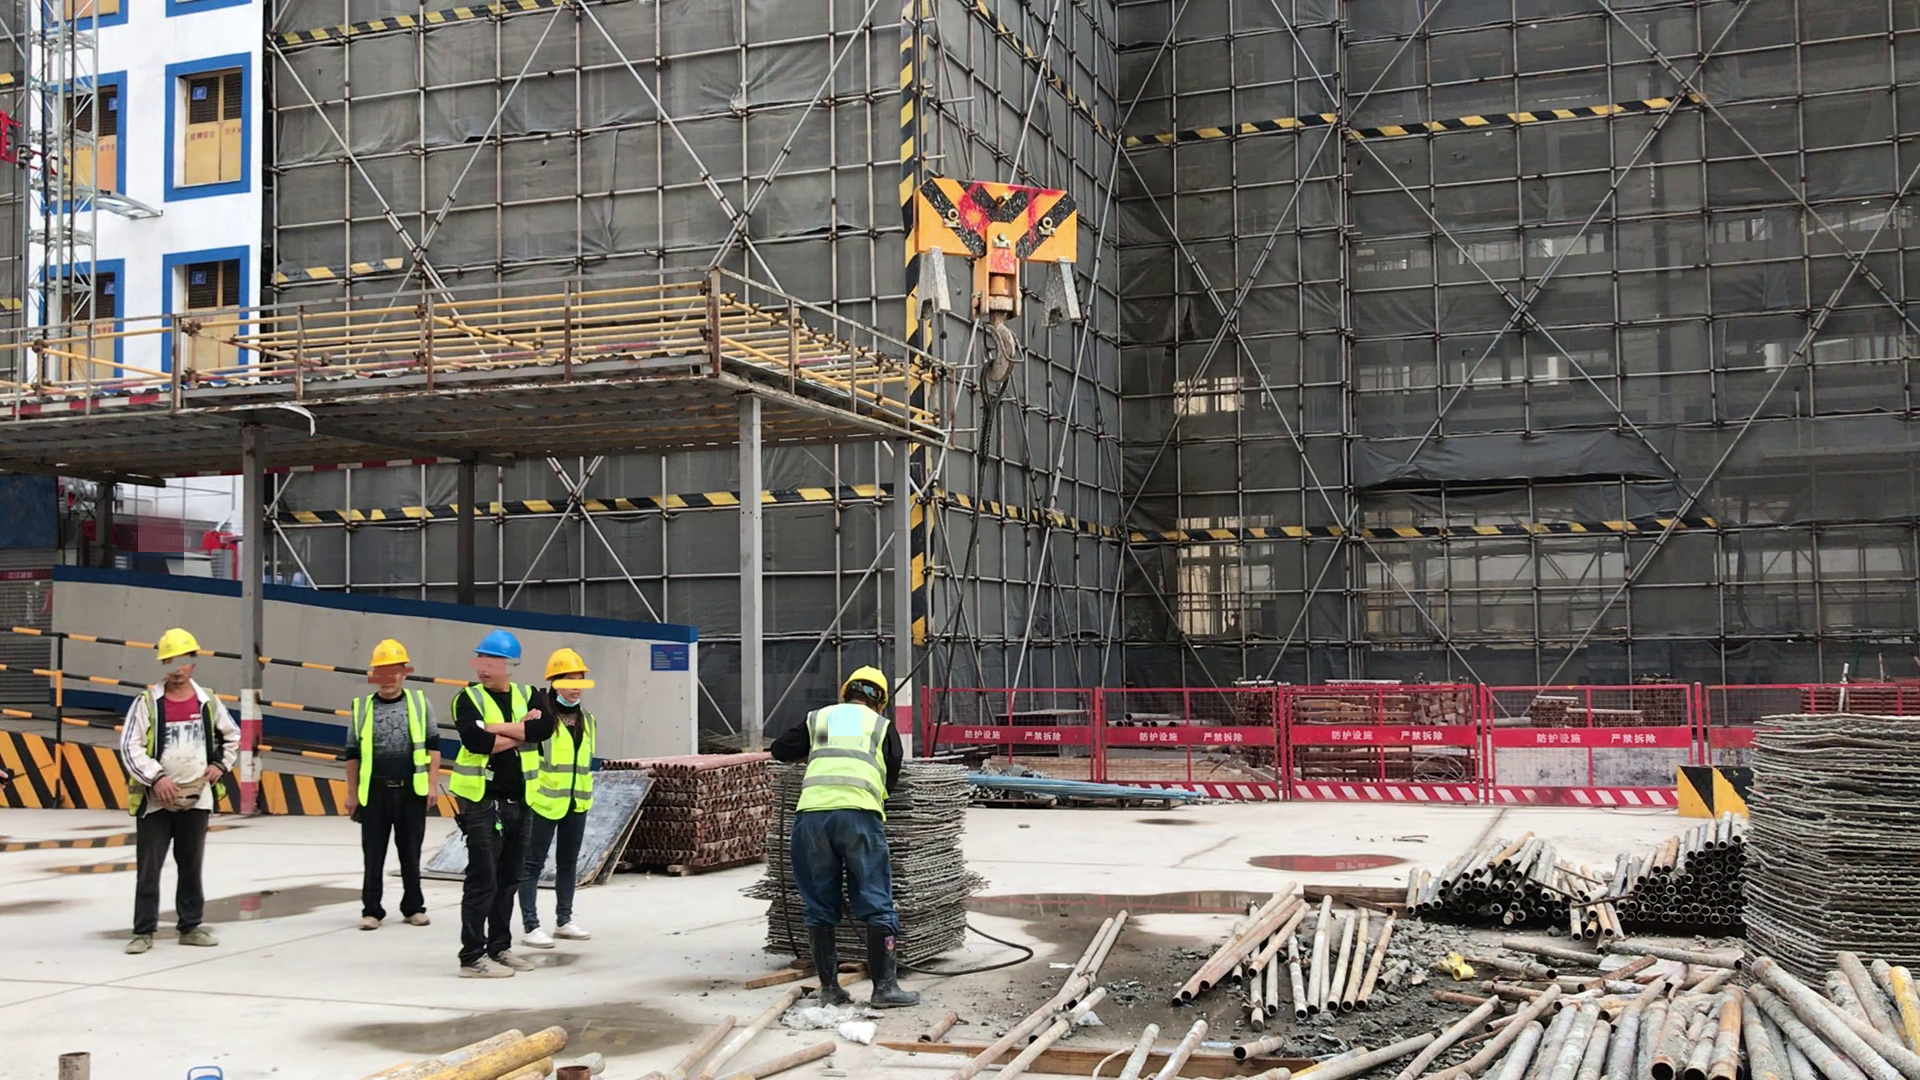helmet: (840, 667, 888, 704), (475, 630, 522, 665), (157, 627, 200, 662), (545, 649, 589, 678), (369, 640, 409, 666)
person: (786, 668, 917, 1008), (121, 627, 241, 955), (452, 630, 532, 977), (350, 641, 435, 930), (531, 650, 593, 947)
vest: (451, 685, 528, 800), (800, 712, 892, 806), (356, 693, 429, 799), (536, 711, 596, 819)
